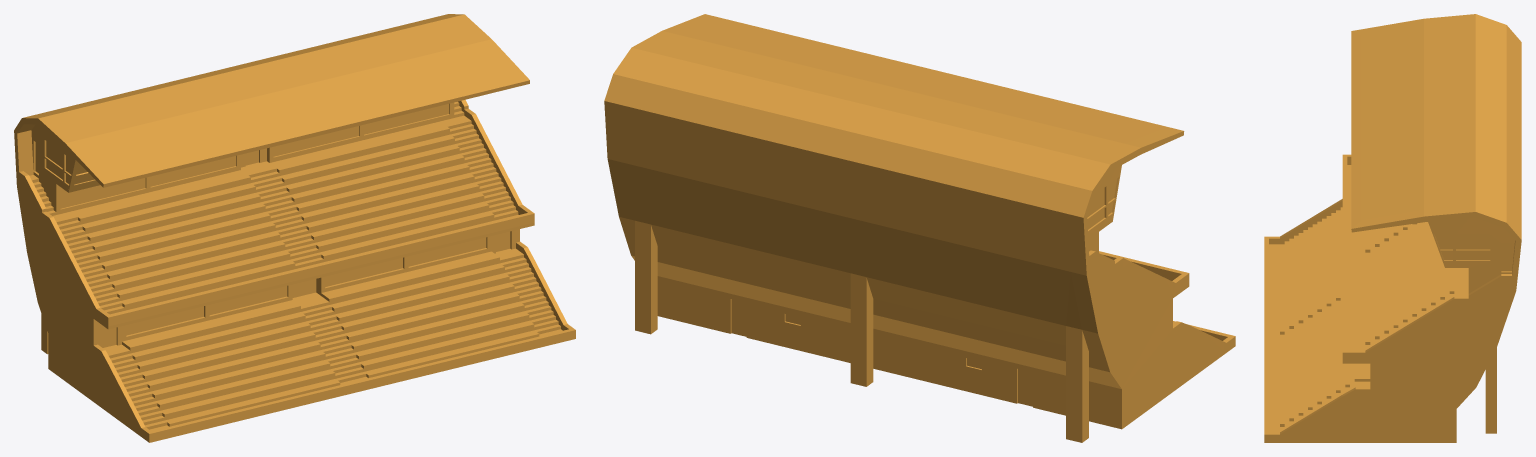
File: tribune-streight-double.fbx
The picture shows the model from 3 angles, left to right: view 1: azimuth 30°, elevation 25°; view 2: azimuth 150°, elevation 25°; view 3: azimuth 270°, elevation 25°; orthographic projection. The views are drawn at different scales.
Parts seen in each view (by area): view 1: tribune-streight-double; view 2: tribune-streight-double; view 3: tribune-streight-double.
Part boxes in pixels (x1,y1,x2,y2): tribune-streight-double: (14, 14, 575, 442); tribune-streight-double: (604, 14, 1235, 442); tribune-streight-double: (1264, 14, 1521, 442).
Size of the model in its own units: 30 by 16.34 by 16.5.
